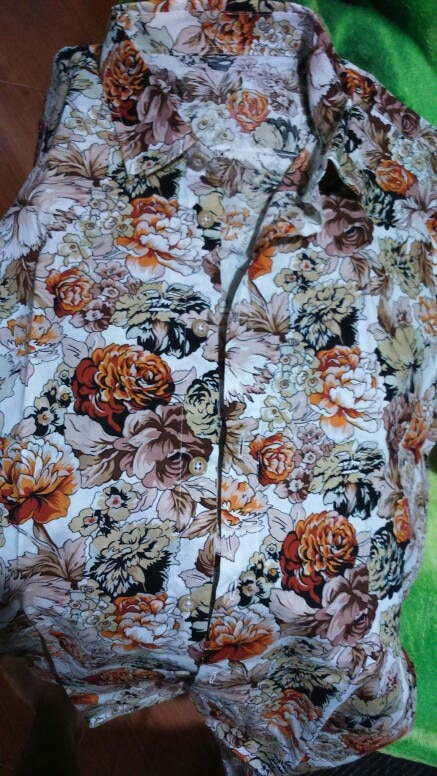shirts: (6, 2, 437, 771)
